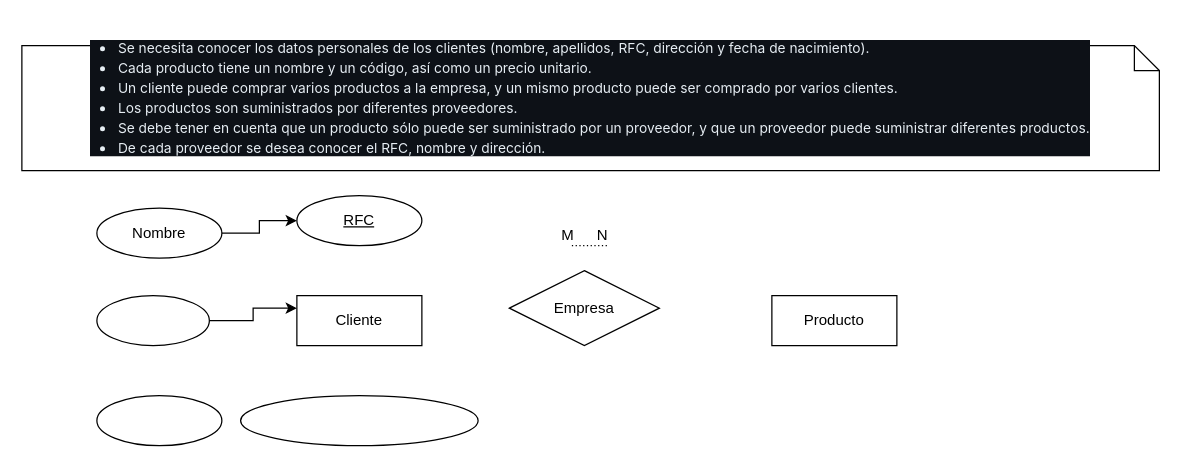
Image size: 1181x468. Some labels were removed from this diagram. Here are the shapes that lost their labels. From the top down, the box of each, then its label:
(96, 294, 209, 346): Apellido
(96, 394, 222, 446): Dirección
(239, 394, 478, 446): Fecha_nacimiento
